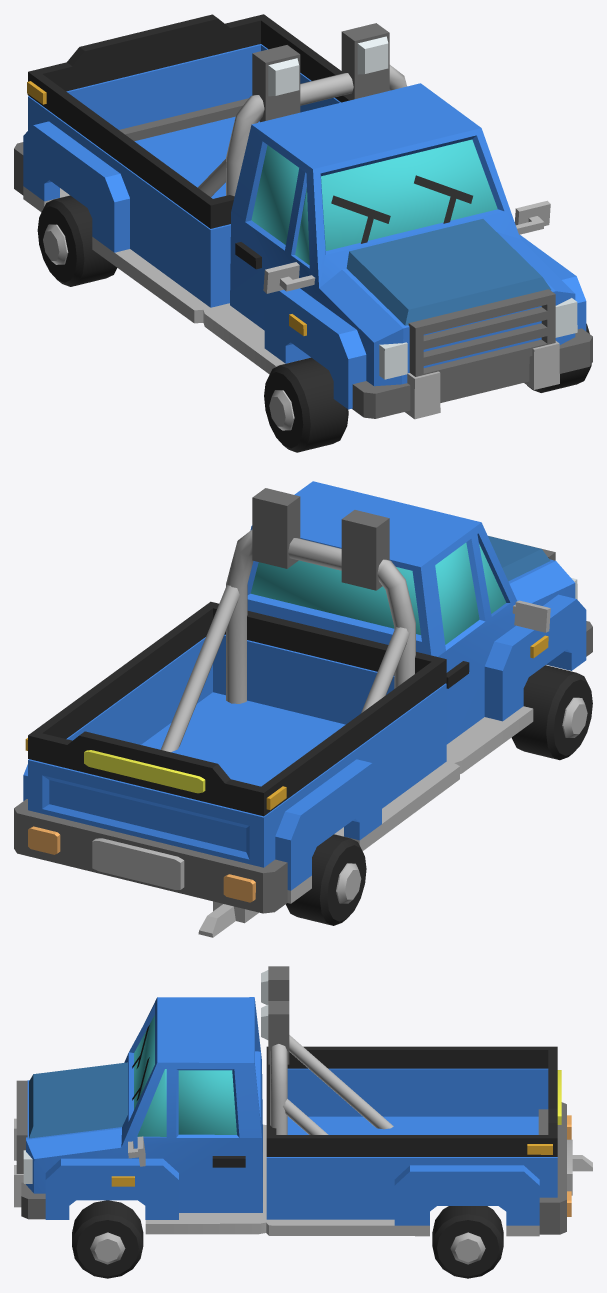
The model's file is PlayerCar_03_Pickup.fbx.
3 views of the same model, one above another, from view 1: azimuth 30°, elevation 25°; view 2: azimuth 150°, elevation 25°; view 3: azimuth 270°, elevation 25° (orthographic). The views are drawn at different scales.
Parts seen in each view (by area): view 1: Cabine, Cabine_Cant, Windows, Hood, Wheels, Radiator, Side_Parts, Bumpers, Light_Top, Pipes, Mirrors, Light_Front (+1 smaller); view 2: Cabine, Cabine_Cant, Pipes, Wheels, Windows, Bumpers, Light_Top, Side_Parts, Sighn_Back, Light_Back_Top, Light_Back, Hood (+3 smaller); view 3: Cabine, Cabine_Cant, Wheels, Hood, Side_Parts, Windows, Pipes, Bumpers, Light_Top, Radiator, Light_Side.
Boxes of the visible parts, <box> form: Cabine: <box>23,44,586,409</box>; Cabine_Cant: <box>27,14,349,228</box>; Windows: <box>251,139,497,264</box>; Hood: <box>346,219,551,325</box>; Wheels: <box>37,195,591,452</box>; Radiator: <box>408,289,555,378</box>; Side_Parts: <box>23,186,559,419</box>; Bumpers: <box>14,98,592,418</box>; Light_Top: <box>252,23,389,122</box>; Pipes: <box>197,65,407,196</box>; Mirrors: <box>263,200,550,293</box>; Light_Front: <box>379,298,577,379</box>; Cabine: <box>23,481,586,890</box>; Cabine_Cant: <box>28,601,446,816</box>; Pipes: <box>161,529,415,752</box>; Wheels: <box>286,665,592,925</box>; Windows: <box>250,542,506,644</box>; Bumpers: <box>14,621,592,913</box>; Light_Top: <box>252,488,389,590</box>; Side_Parts: <box>287,706,533,903</box>; Sighn_Back: <box>92,838,184,889</box>; Light_Back_Top: <box>84,750,205,793</box>; Light_Back: <box>28,826,255,902</box>; Hood: <box>488,536,550,581</box>; Cabine: <box>26,997,557,1225</box>; Cabine_Cant: <box>266,1046,557,1156</box>; Wheels: <box>72,1200,503,1278</box>; Hood: <box>29,1062,127,1138</box>; Side_Parts: <box>14,1118,539,1236</box>; Windows: <box>134,1015,236,1136</box>; Pipes: <box>270,1035,393,1134</box>; Bumpers: <box>21,1102,566,1234</box>; Light_Top: <box>261,966,289,1064</box>; Radiator: <box>16,1080,27,1173</box>; Light_Side: <box>111,1144,552,1186</box>.
Size of the model in its own units: 252 by 235 by 527.
